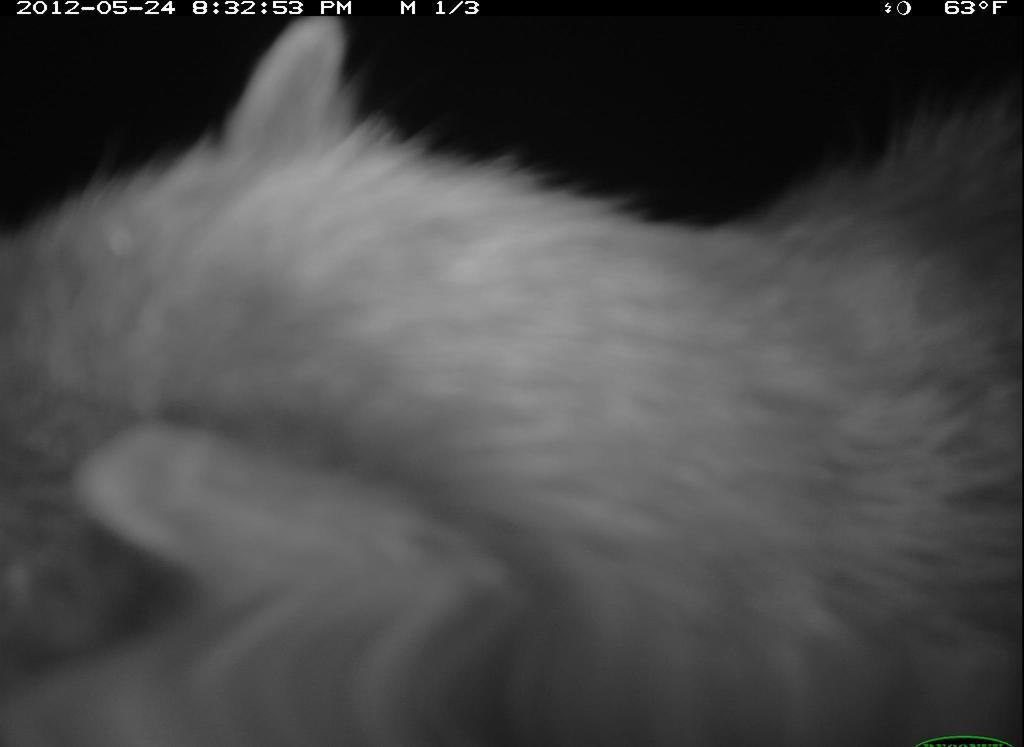raccoon: (6, 15, 1017, 747)
